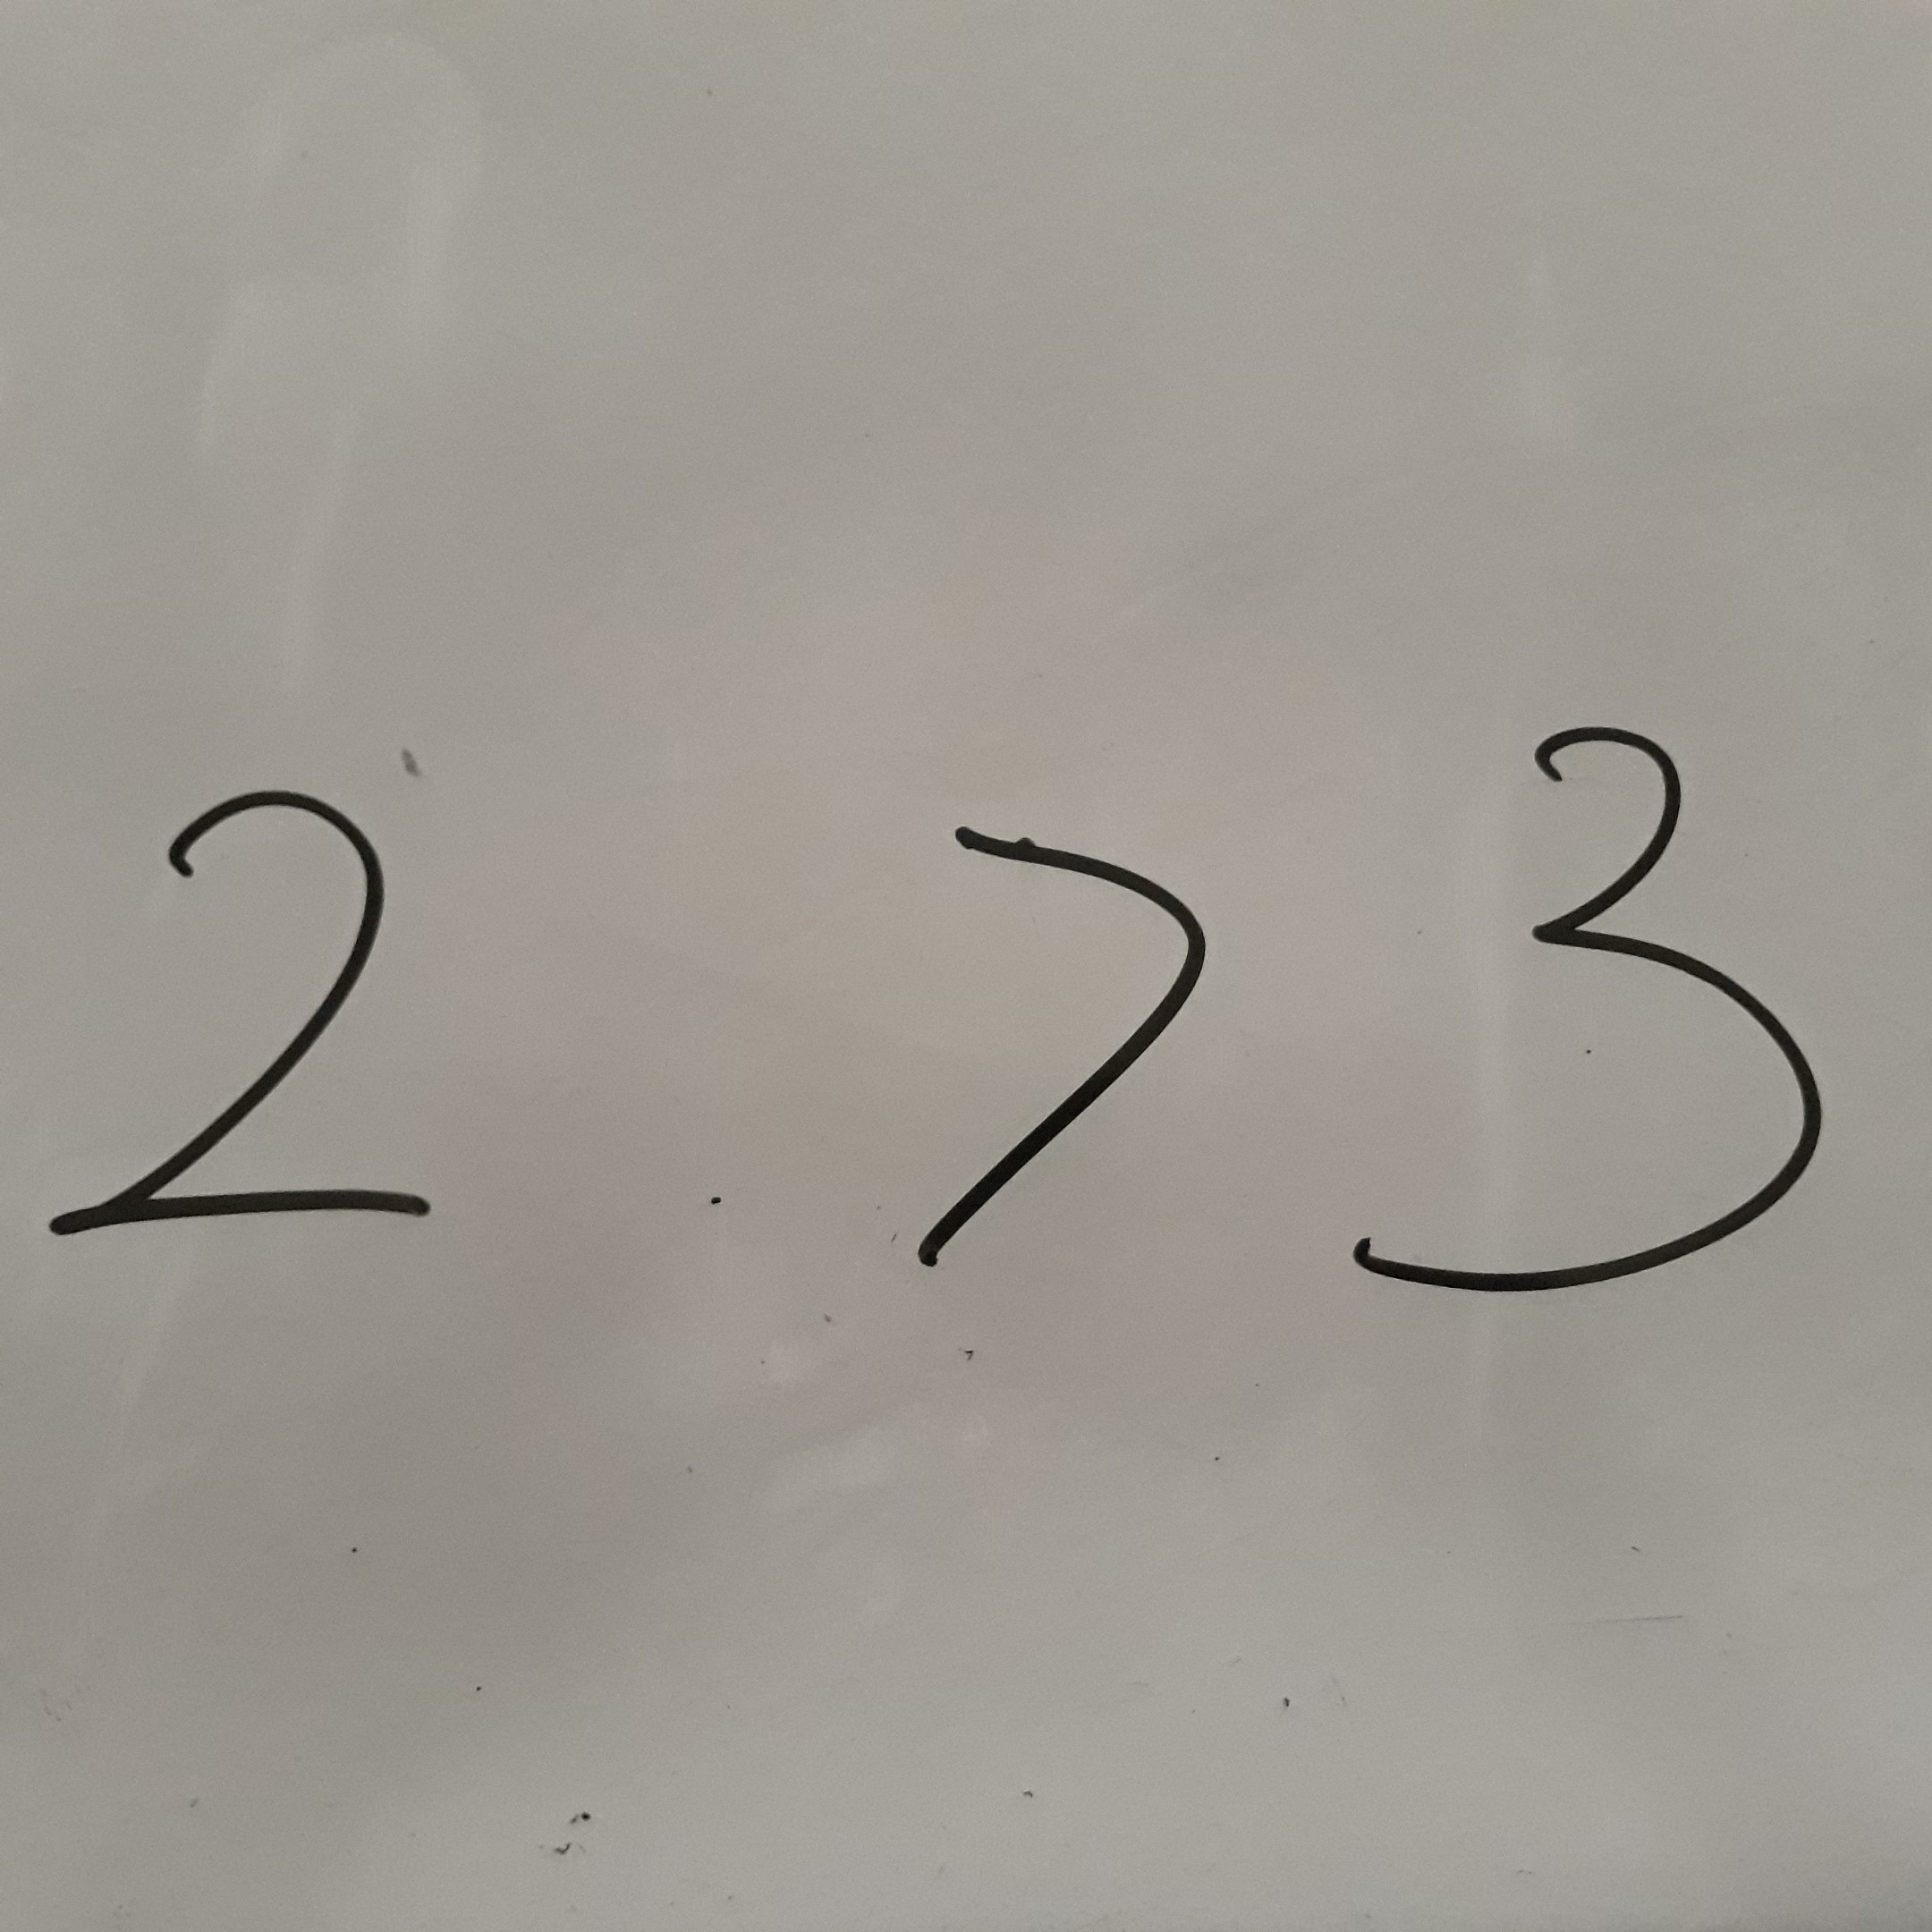morethan: (822, 778, 1295, 1305)
num2: (27, 756, 500, 1283)
num3: (1333, 702, 1851, 1320)
